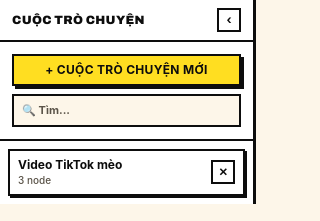
ConversationRail — delete + collapse › toggling collapse shrinks the rail to just the toggle + new-conversation icon buttons
Expected: the field with test id "conversation-search" is shown, [12,94,241,126]
Click the button with test id "rail-toggle".
click(229, 20)  # box [217,8,241,32]
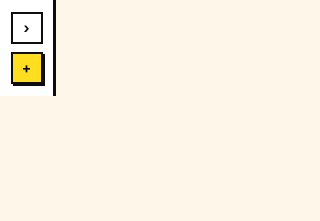
Expected: the button with test id "new-conversation" is shown, [10,52,42,84]
Expected: the field with test id "conversation-search" is gone
